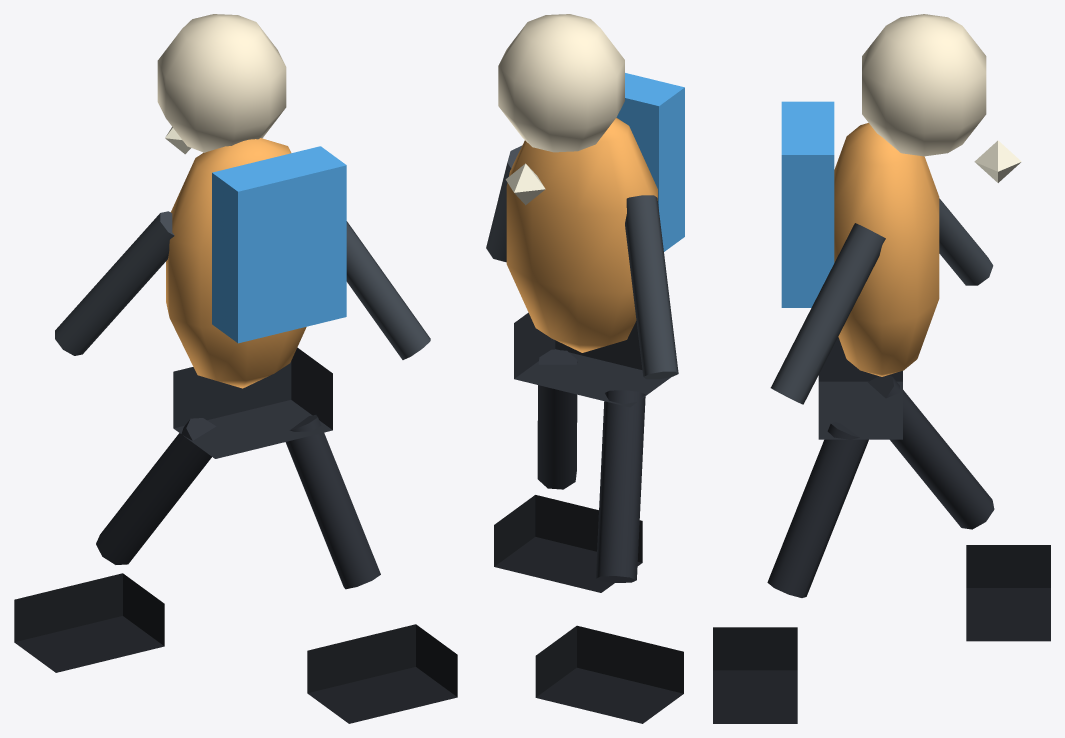
File: walker.gltf
3 views of the same model, side by side, from view 1: azimuth 30°, elevation 25°; view 2: azimuth 150°, elevation 25°; view 3: azimuth 270°, elevation 25° (orthographic). The views are drawn at different scales.
Parts seen in each view (by area): view 1: walker; view 2: walker; view 3: walker.
Boxes of the visible parts, box(x1,y1,x2,y2) form: walker: box(14, 14, 457, 723); walker: box(486, 14, 684, 723); walker: box(713, 14, 1050, 723).
Bounding box in the file's own units: 0.6316 × 1.34 × 0.64.
